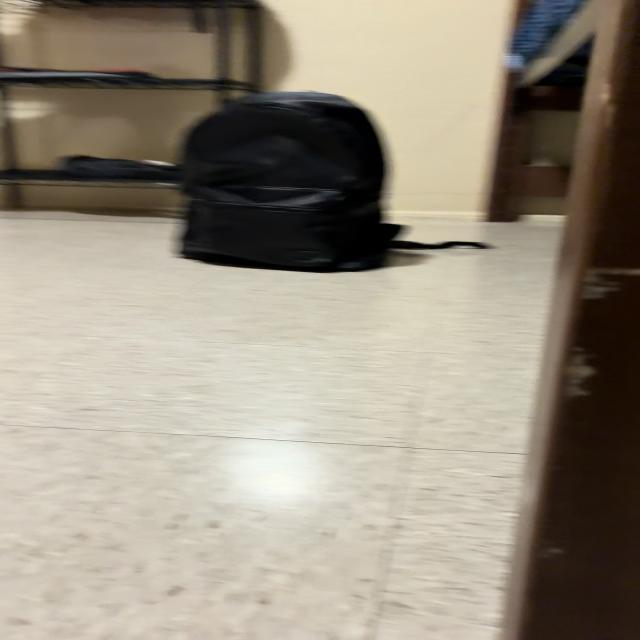backpack: (182, 92, 485, 270)
